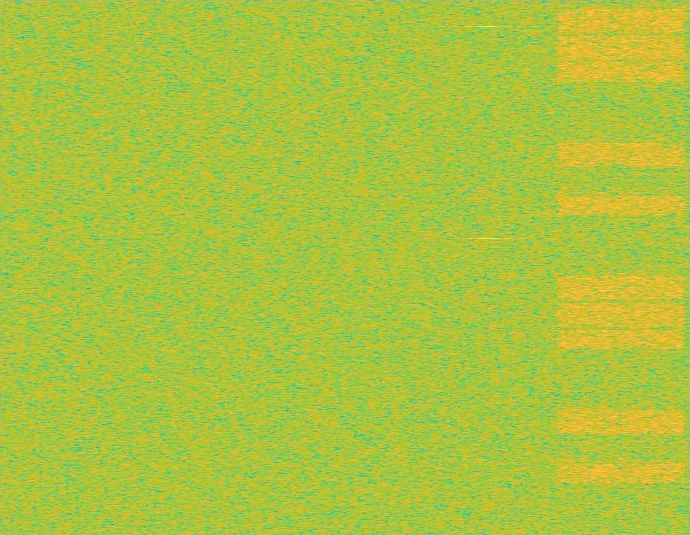LTE: (552, 0, 689, 534)
Radar: (482, 0, 496, 534)
